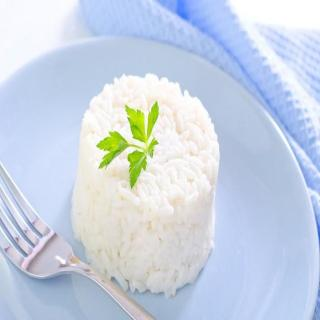Nasi: (69, 72, 221, 301)
